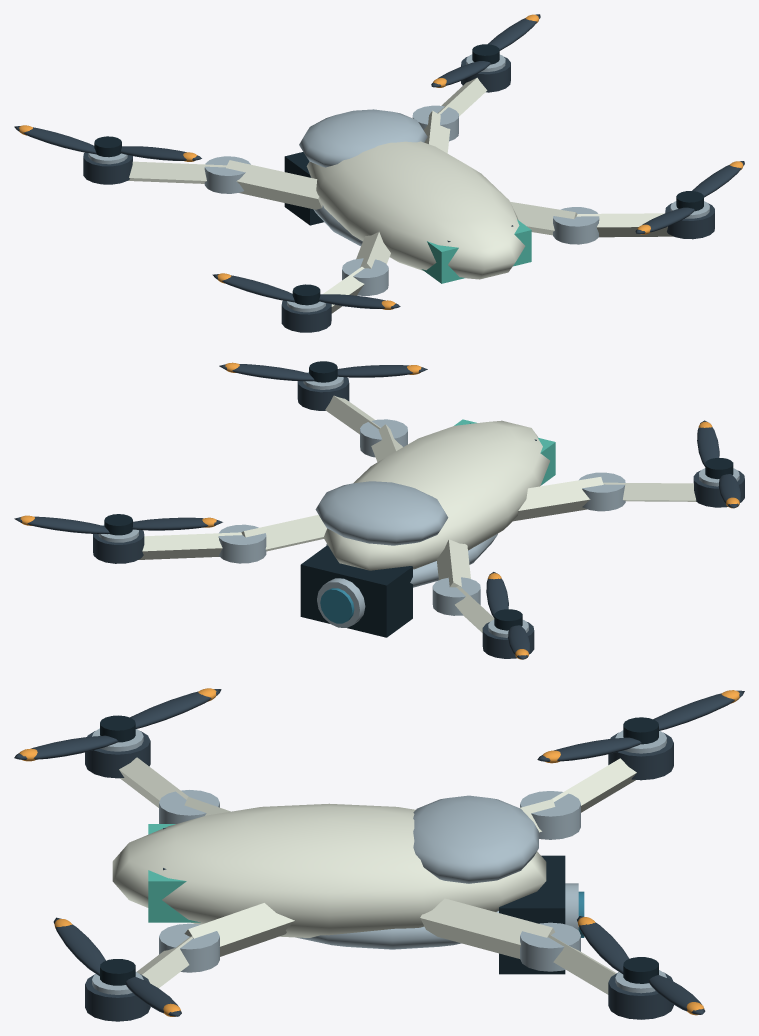
File: dji-mini-4-pro.glb
3 views of the same model, one above another, from view 1: azimuth 30°, elevation 25°; view 2: azimuth 150°, elevation 25°; view 3: azimuth 270°, elevation 25° (orthographic). The views are drawn at different scales.
Visible parts, largest first — view 1: part-frame-1, part-propeller-7, part-propeller-3, part-propeller-5, part-propeller-9, part-battery-10, part-motor-6, part-motor-2, part-motor-8, part-motor-4, part-payload-11; view 2: part-frame-1, part-payload-11, part-propeller-5, part-propeller-9, part-propeller-3, part-propeller-7, part-motor-4, part-motor-8, part-motor-2, part-motor-6, part-battery-10; view 3: part-frame-1, part-payload-11, part-propeller-3, part-propeller-7, part-propeller-9, part-propeller-5, part-motor-4, part-motor-8, part-motor-2, part-motor-6, part-battery-10.
Part boxes in pixels (box(x1,y1,x2,y2)): part-frame-1: box(128, 77, 673, 313); part-propeller-7: box(212, 273, 400, 309); part-propeller-3: box(14, 125, 201, 161); part-propeller-5: box(431, 14, 540, 87); part-propeller-9: box(635, 161, 744, 234); part-battery-10: box(421, 219, 531, 283); part-motor-6: box(281, 300, 331, 332); part-motor-2: box(83, 152, 132, 184); part-motor-8: box(665, 201, 714, 239); part-motor-4: box(461, 54, 510, 92); part-payload-11: box(284, 152, 323, 225); part-frame-1: box(138, 395, 696, 632); part-payload-11: box(300, 545, 412, 637); part-propeller-5: box(14, 514, 222, 535); part-propeller-9: box(219, 361, 427, 382); part-propeller-3: box(486, 572, 530, 659); part-propeller-7: box(697, 420, 741, 508); part-motor-4: box(93, 525, 144, 563); part-motor-8: box(297, 372, 349, 410); part-motor-2: box(482, 620, 534, 658); part-motor-6: box(693, 468, 744, 507); part-battery-10: box(454, 419, 555, 485); part-frame-1: box(112, 757, 636, 994); part-payload-11: box(499, 855, 584, 974); part-propeller-3: box(537, 690, 744, 763); part-propeller-7: box(14, 688, 221, 761); part-propeller-9: box(53, 917, 181, 1016); part-propeller-5: box(577, 916, 705, 1015); part-motor-4: box(608, 970, 673, 1019); part-motor-8: box(85, 972, 150, 1021); part-motor-2: box(608, 730, 673, 780); part-motor-6: box(85, 728, 150, 778); part-battery-10: box(148, 824, 200, 922).
Bounding box in the file's own units: 3.55 × 0.6765 × 3.35.
